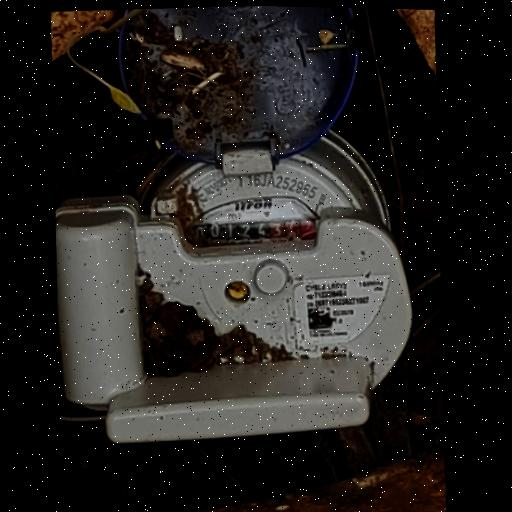0: (208, 223, 222, 241), (193, 224, 206, 242)
1: (226, 222, 236, 240)
2: (239, 221, 253, 240)
3: (270, 219, 284, 239)
4: (255, 220, 269, 239)
9: (302, 216, 315, 240), (284, 218, 298, 239)
border_water_meter_number: (192, 214, 318, 248)
